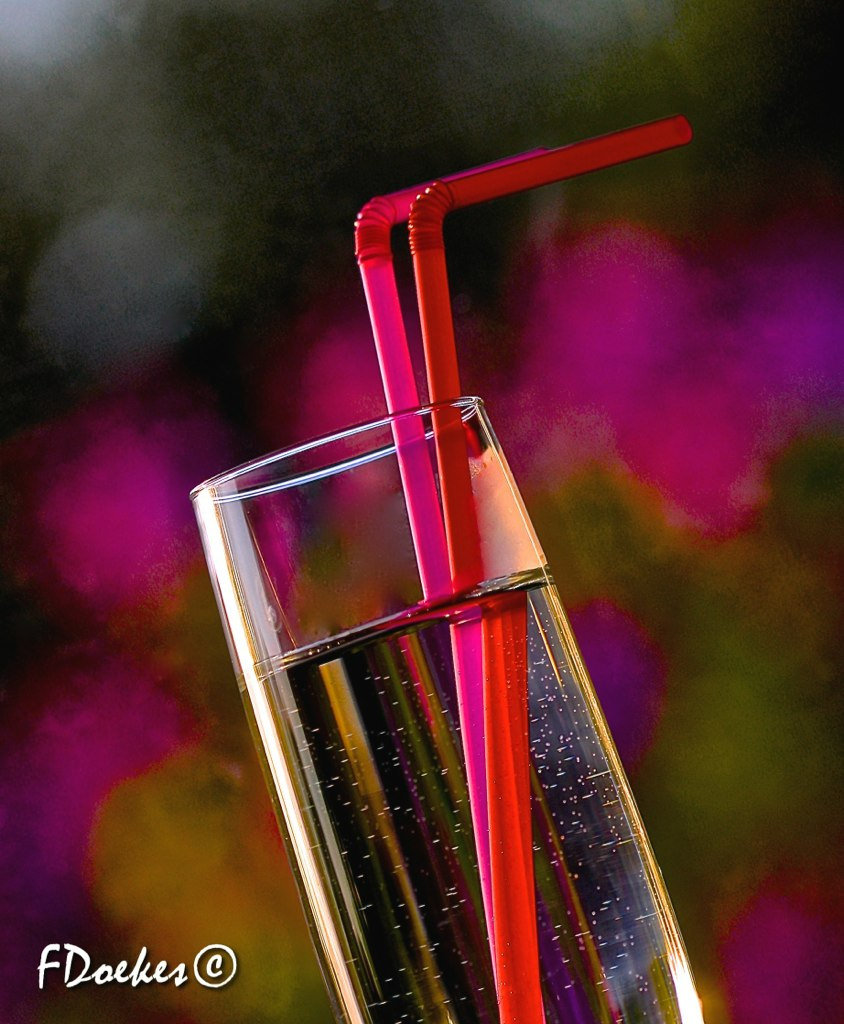glass of water: (182, 368, 710, 1024)
